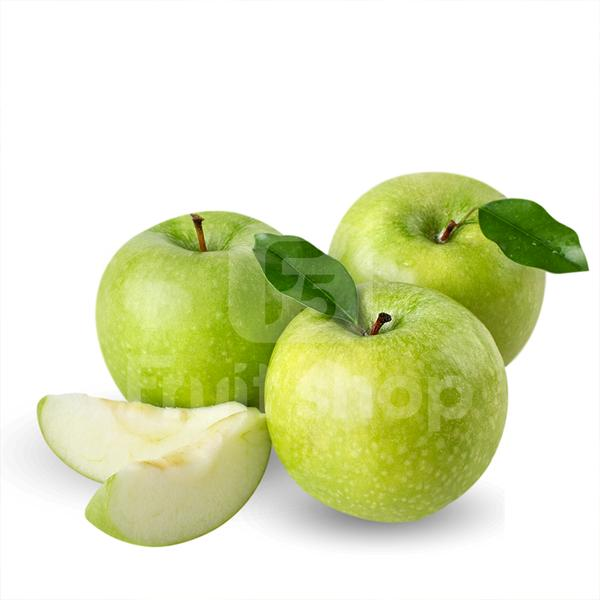apples: (234, 314, 546, 519), (318, 144, 579, 362), (74, 191, 295, 395)
